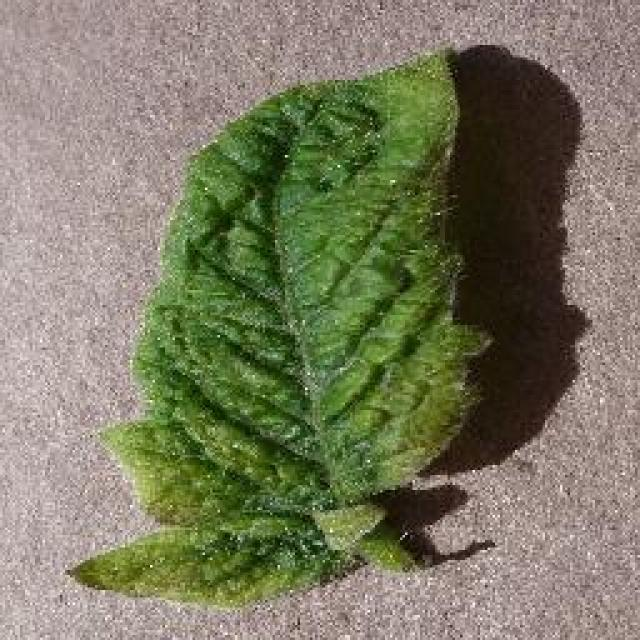Tom_Yellow_Leaf_Curl_Virus: (154, 111, 468, 571)
